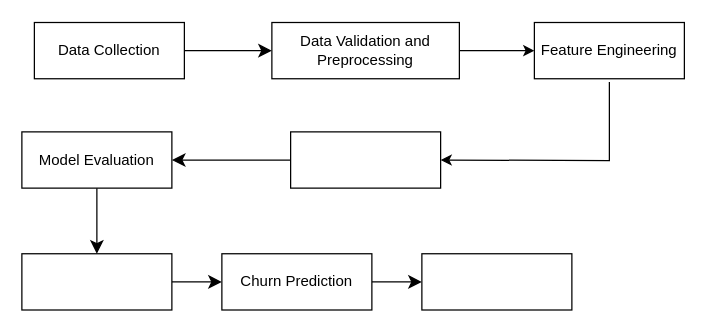
This 706x331 diagram has some shape labels left out. The centre of each missing label's shape, as x and y in pixels:
"Model Deployment" belongs at pixel 96 281.
"Model Training" belongs at pixel 365 159.
"Retention Strategy Generation" belongs at pixel 496 281.
